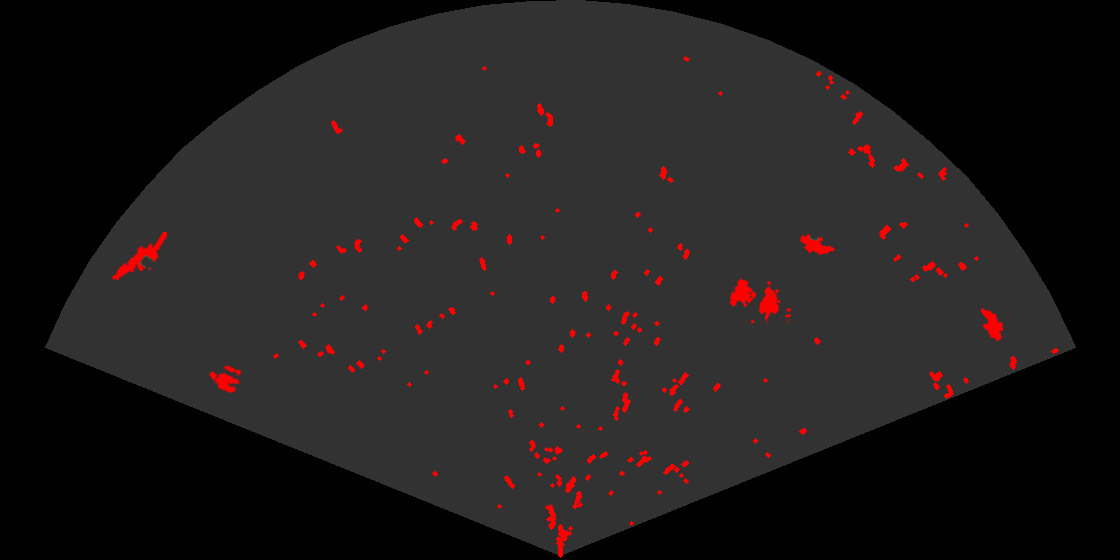AUV: (798, 232, 837, 257), (979, 306, 1005, 343)
ball: (214, 364, 243, 395)
cage: (727, 277, 791, 323)
frogman: (110, 232, 167, 282)
